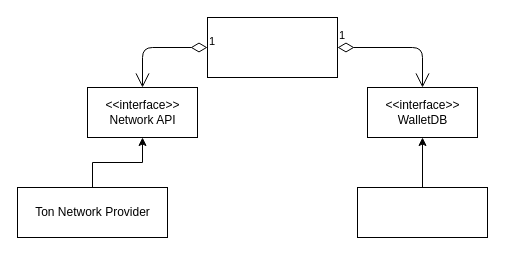
The diagram is 505 pixels wide and 263 high, and some of its shapes have lost their labels. The centre of each missing label's shape, as x and y in pixels:
"Index DB" belongs at (422,212).
"Wallet API" belongs at (272,47).
